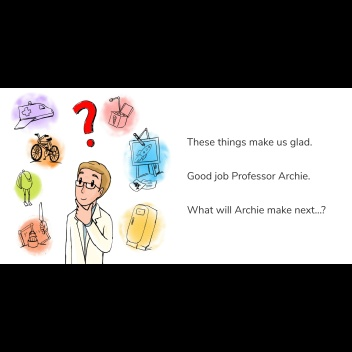latin: (183, 134, 315, 150), (179, 168, 313, 182), (185, 202, 326, 215)
